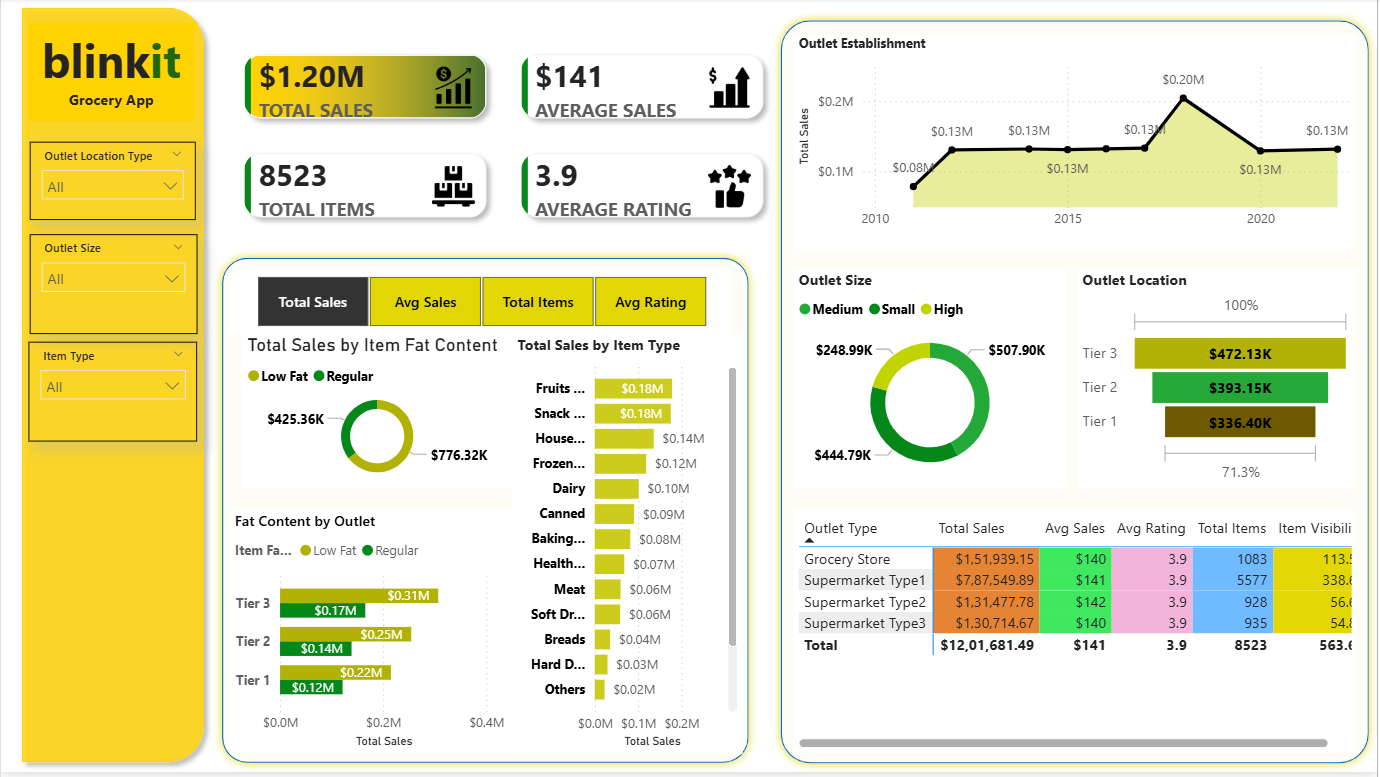

Layout of this report page (visuals, bound fields, positions):
{"tool":"powerbi","page":{"name":"Dashboard Analysis","canvas":[1280,720],"ordinal":1},"visuals":[{"type":"shape","box":[10,0,187.1,720],"z":0},{"type":"textbox","box":[25.7,22.9,154.3,91.4],"z":1000},{"type":"cardVisual","fields":{"Data":["BlinkIT Grocery Data.Total Sales","BlinkIT Grocery Data.Avg Sales","BlinkIT Grocery Data.Total Items","BlinkIT Grocery Data.Avg Rating"]},"box":[197.1,22.9,540,211.4],"z":2000},{"type":"shape","box":[197.1,234.3,505.7,485.7],"z":3000},{"type":"donutChart","fields":{"Y":["BlinkIT Grocery Data.Total Sales"],"Category":["BlinkIT Grocery Data.Item Fat Content"]},"box":[224.3,312.9,251.4,142.9],"z":4000},{"type":"slicer","fields":{"Values":["Metrics.Metrics"]},"box":[212.9,252.9,467.1,60],"z":5000},{"type":"clusteredBarChart","title":"Fat Content by Outlet","fields":{"Y":["BlinkIT Grocery Data.Total Sales"],"Series":["BlinkIT Grocery Data.Item Fat Content"],"Category":["BlinkIT Grocery Data.Outlet Location Type"]},"box":[212.9,477.1,262.9,225.7],"z":6000},{"type":"barChart","fields":{"Y":["BlinkIT Grocery Data.Total Sales"],"Category":["BlinkIT Grocery Data.Item Type"]},"box":[475.7,312.9,214.3,390],"z":7000},{"type":"shape","box":[717.1,12.9,562.9,707.1],"z":8000},{"type":"lineChart","title":"Outlet Establishment","fields":{"Y":["BlinkIT Grocery Data.Total Sales"],"Category":["BlinkIT Grocery Data.Outlet Establishment Year"]},"box":[737.1,34.3,524.3,200],"z":9000},{"type":"donutChart","title":"Outlet Size","fields":{"Category":["BlinkIT Grocery Data.Outlet Size"],"Y":["BlinkIT Grocery Data.Total Sales"]},"box":[737.1,252.9,254.3,202.9],"z":10000},{"type":"funnel","title":"Outlet Location","fields":{"Y":["BlinkIT Grocery Data.Total Sales"],"Category":["BlinkIT Grocery Data.Outlet Location Type"]},"box":[1001.4,252.9,260,202.9],"z":11000},{"type":"pivotTable","fields":{"Rows":["BlinkIT Grocery Data.Outlet Type"],"Values":["BlinkIT Grocery Data.Total Sales","BlinkIT Grocery Data.Avg Sales","BlinkIT Grocery Data.Avg Rating","BlinkIT Grocery Data.Total Items","Sum(BlinkIT Grocery Data.Item Visibility)"]},"box":[737.1,477.1,524.3,225.7],"z":12000},{"type":"slicer","fields":{"Values":["BlinkIT Grocery Data.Outlet Location Type"]},"box":[27.1,134.3,154.3,72.9],"z":13000},{"type":"slicer","fields":{"Values":["BlinkIT Grocery Data.Outlet Size"]},"box":[27.1,220,155.7,92.9],"z":14000},{"type":"slicer","fields":{"Values":["BlinkIT Grocery Data.Item Type"]},"box":[25.7,320,157.1,92.9],"z":15000}]}

Visuals, with their boxes in screenshot pixels (x1, y1, x2, y2), scaled from the page's 1280x720 canvas onto the 1380x777 screenshot:
shape: 11,0,212,776
textbox: 28,25,194,123
cardVisual - BlinkIT Grocery Data.Total Sales x BlinkIT Grocery Data.Avg Sales: 212,25,795,253
shape: 212,253,758,776
donutChart - BlinkIT Grocery Data.Total Sales x BlinkIT Grocery Data.Item Fat Content: 242,338,513,492
slicer - Metrics.Metrics: 230,273,733,338
"Fat Content by Outlet" clusteredBarChart: 230,515,513,758
barChart - BlinkIT Grocery Data.Total Sales x BlinkIT Grocery Data.Item Type: 513,338,744,759
shape: 773,14,1379,776
"Outlet Establishment" lineChart: 795,37,1360,253
"Outlet Size" donutChart: 795,273,1069,492
"Outlet Location" funnel: 1080,273,1360,492
pivotTable - BlinkIT Grocery Data.Outlet Type x BlinkIT Grocery Data.Total Sales: 795,515,1360,758
slicer - BlinkIT Grocery Data.Outlet Location Type: 29,145,196,224
slicer - BlinkIT Grocery Data.Outlet Size: 29,237,197,338
slicer - BlinkIT Grocery Data.Item Type: 28,345,197,446
